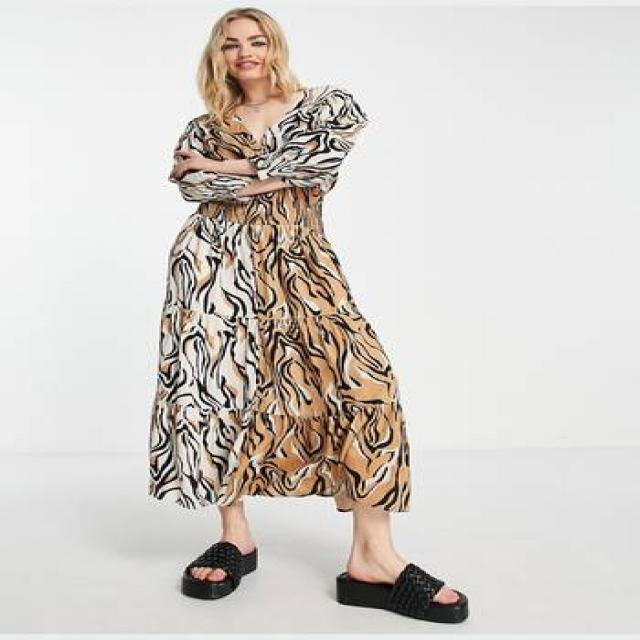clothes: (153, 85, 423, 523)
